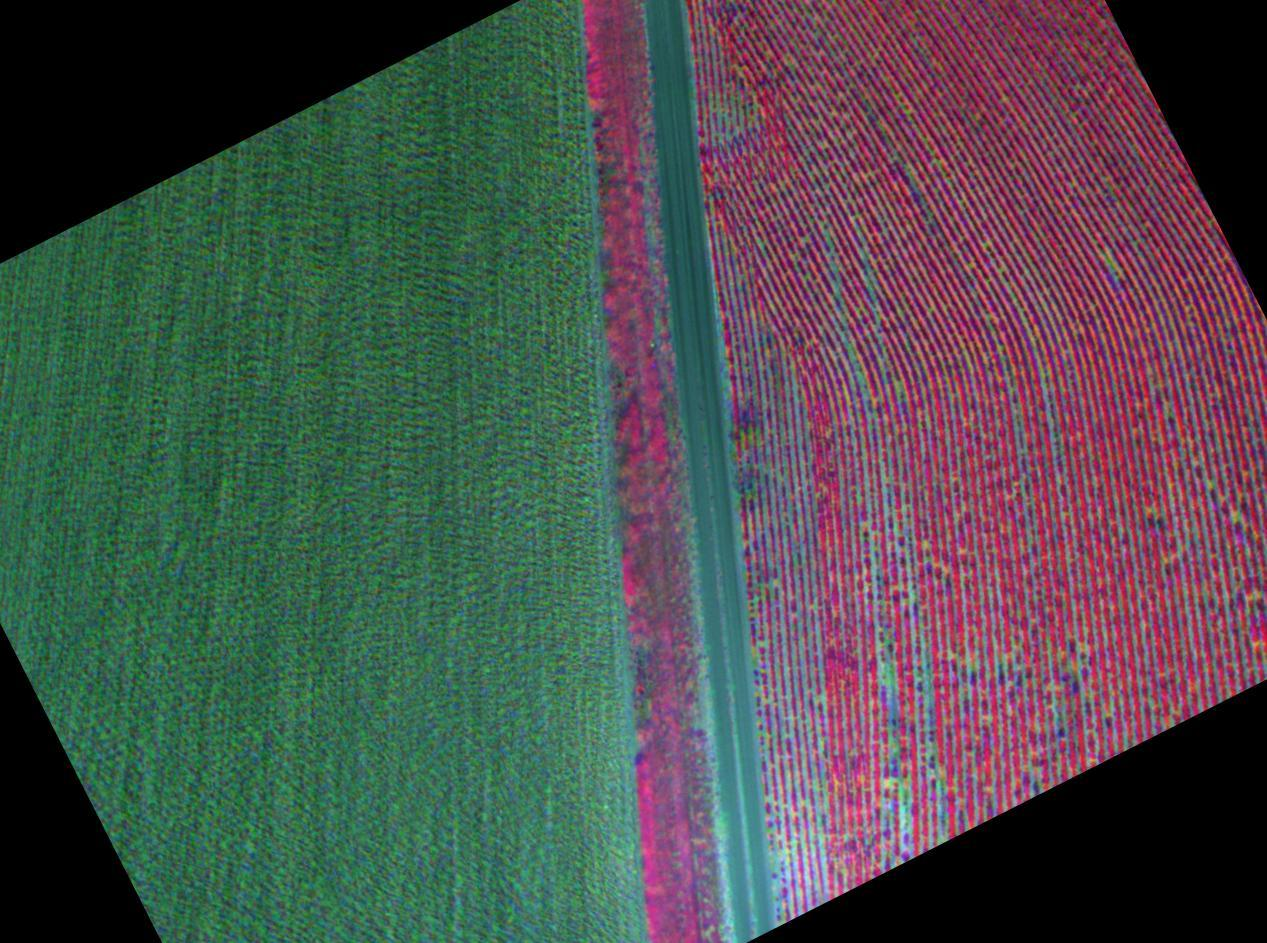dc: (887, 675, 892, 681), (1211, 482, 1216, 487), (782, 852, 786, 857), (1106, 261, 1110, 264)
